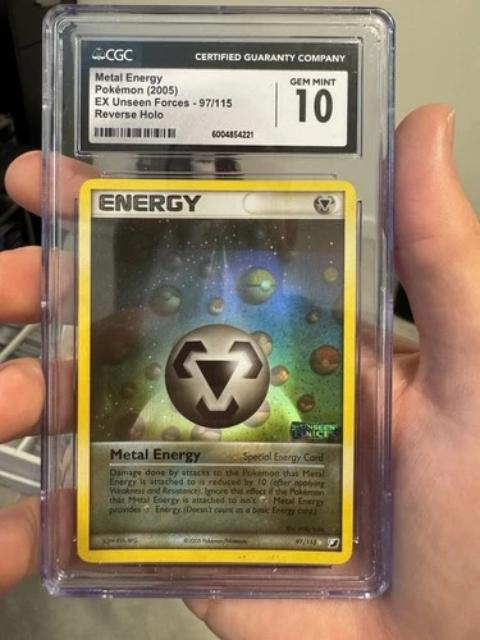Card: (72, 172, 362, 570)
Name: (102, 443, 208, 467)
